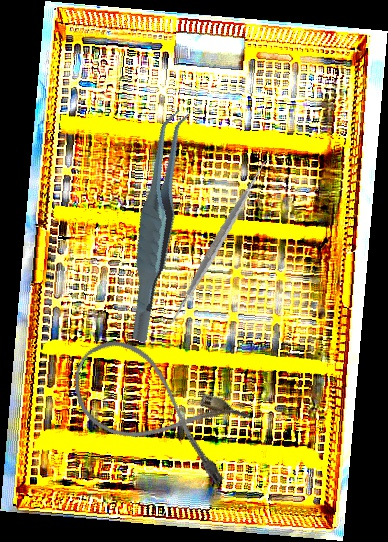Cannula: (56, 326, 259, 492)
Spatula Surgical: (136, 158, 301, 327)
Tissue Forceps: (84, 106, 231, 344)
